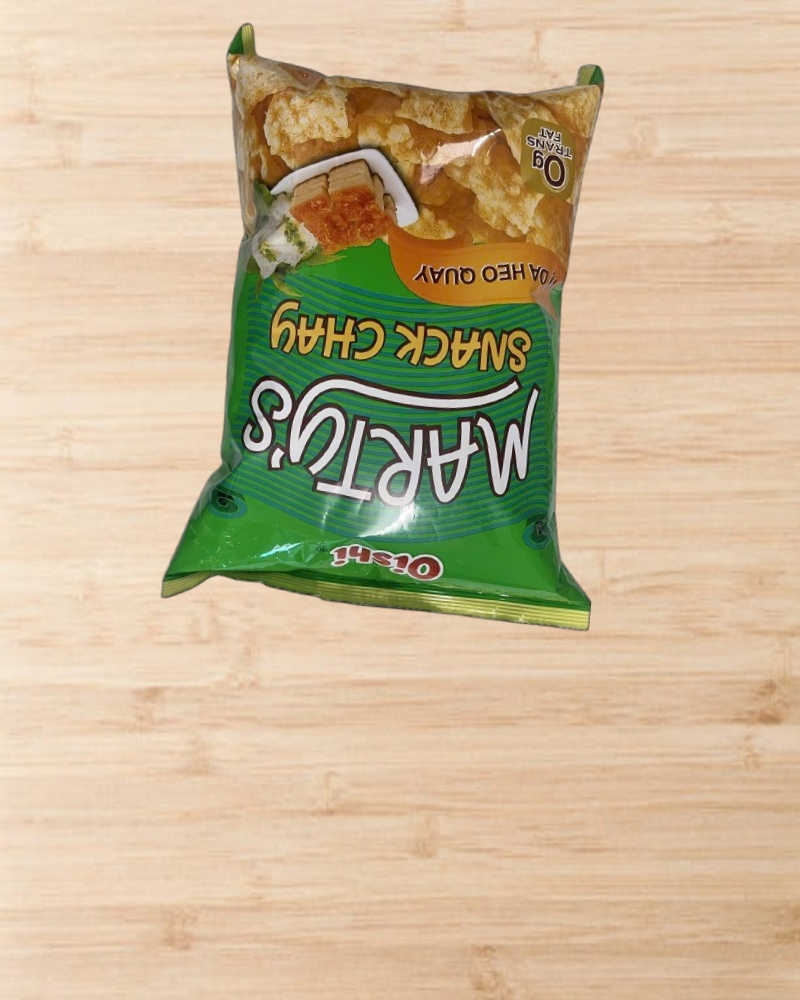Snack chay: (182, 24, 638, 636)
